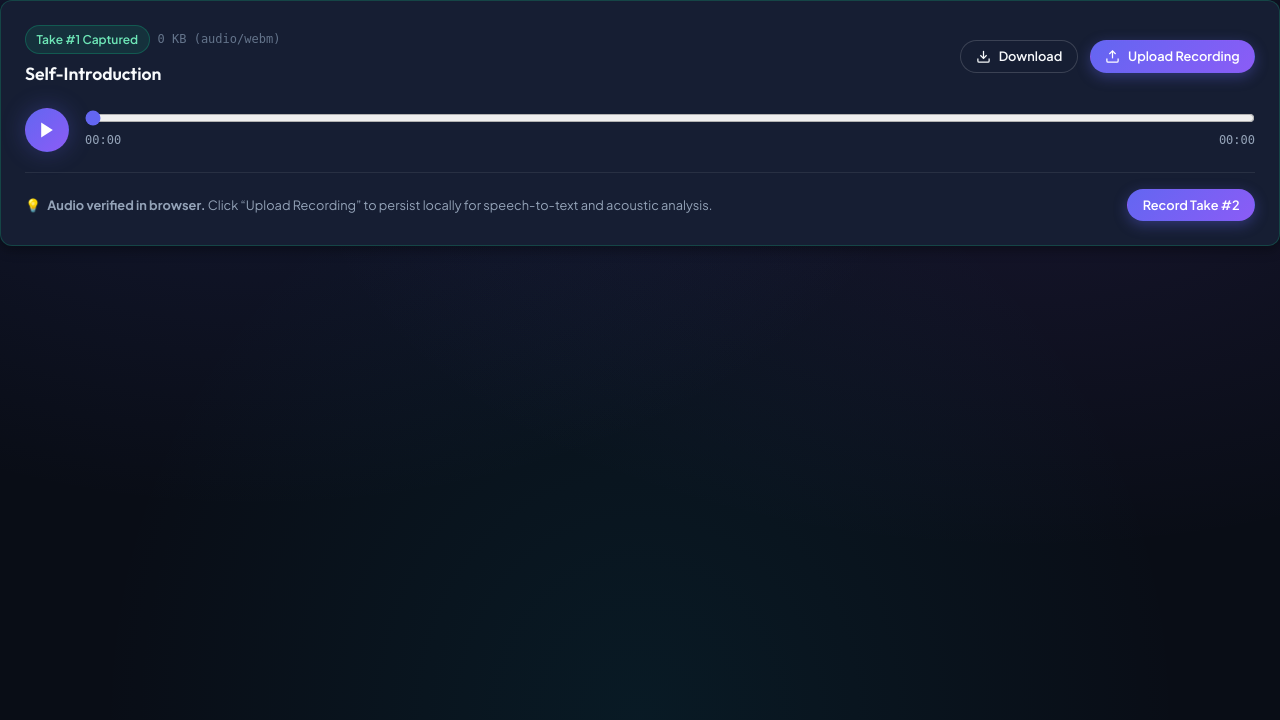
Scenario: AudioPlayer Component › handles successful upload workflow and displays success feedback
What coordinates should you click on to do the following:
click the button "Upload Recording"
I would click on:
 (1172, 56)
Its box is [1090,40,1255,73].
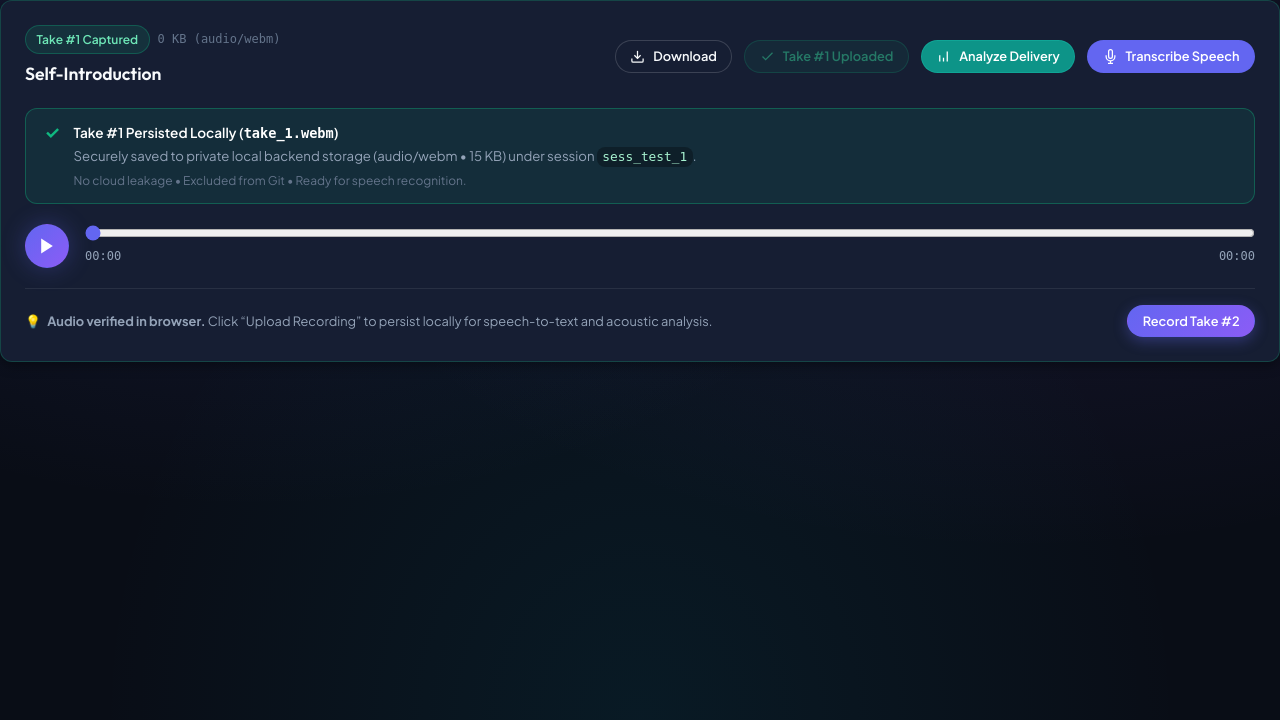
Expected: the text "Take #1 Persisted Locally (take_1.webm)" is shown, [74,124,338,140]
Expected: the button "Take #1 Uploaded" is disabled, [744,40,909,73]
Expected: the button "Transcribe Speech" is shown, [1087,40,1255,73]
